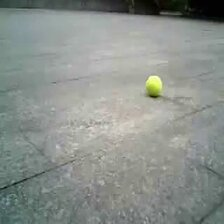tennis: (146, 76, 162, 95)
